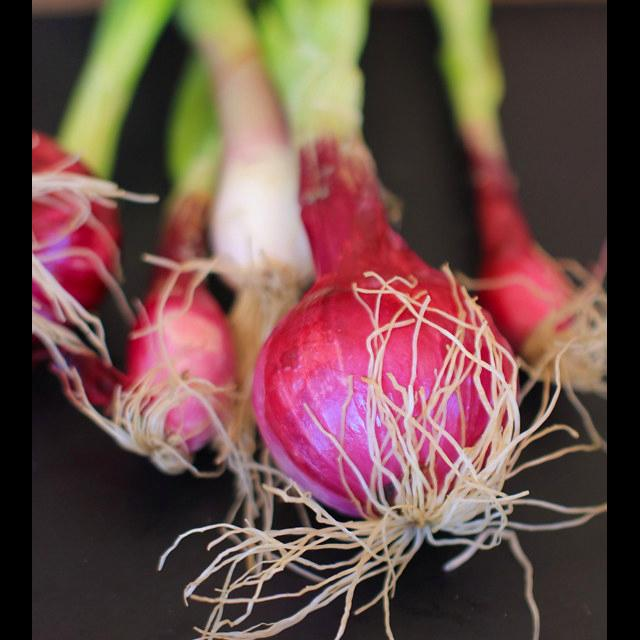green_onion: (32, 0, 608, 640)
